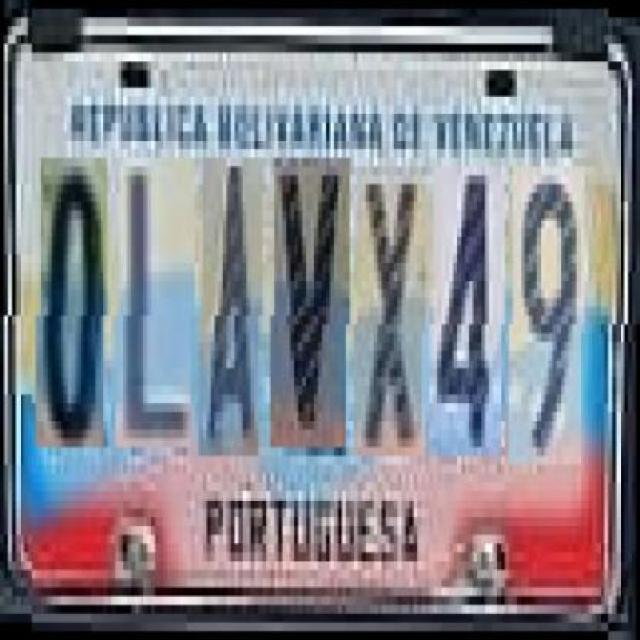4: (433, 166, 505, 457)
9: (512, 166, 585, 465)
a: (202, 158, 262, 456)
l: (119, 157, 195, 448)
o: (40, 157, 108, 448)
v: (274, 157, 351, 448)
x: (358, 166, 425, 457)
